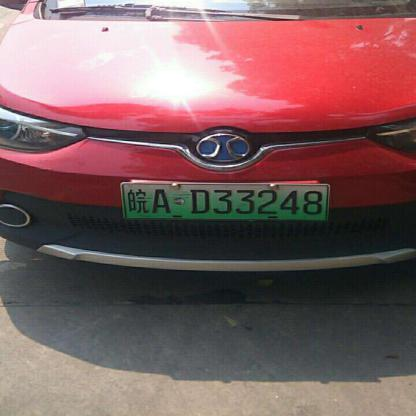lp: (122, 184, 328, 218)
